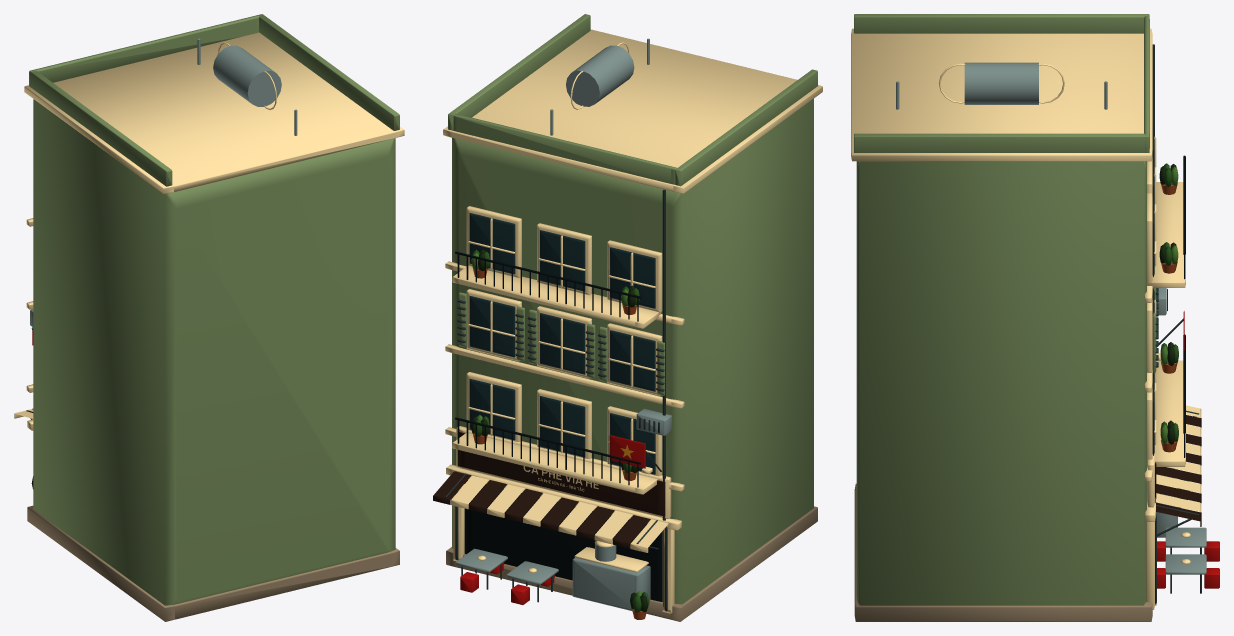
File: PV_StreetShop06.fbx
The picture shows the model from 3 angles, left to right: view 1: azimuth 30°, elevation 25°; view 2: azimuth 150°, elevation 25°; view 3: azimuth 270°, elevation 25°; orthographic projection. The views are drawn at different scales.
Visible parts, largest first — view 1: PV_StreetShop06_LOD0; view 2: PV_StreetShop06_LOD0; view 3: PV_StreetShop06_LOD0.
Part boxes in pixels (x1=…): PV_StreetShop06_LOD0: x1=14, y1=14, x2=404, y2=621; PV_StreetShop06_LOD0: x1=433, y1=14, x2=822, y2=621; PV_StreetShop06_LOD0: x1=851, y1=14, x2=1219, y2=621.
Size of what is drawn, in the model's own units: 8.05 by 15.25 by 9.91.
1 material, 1 textured.
